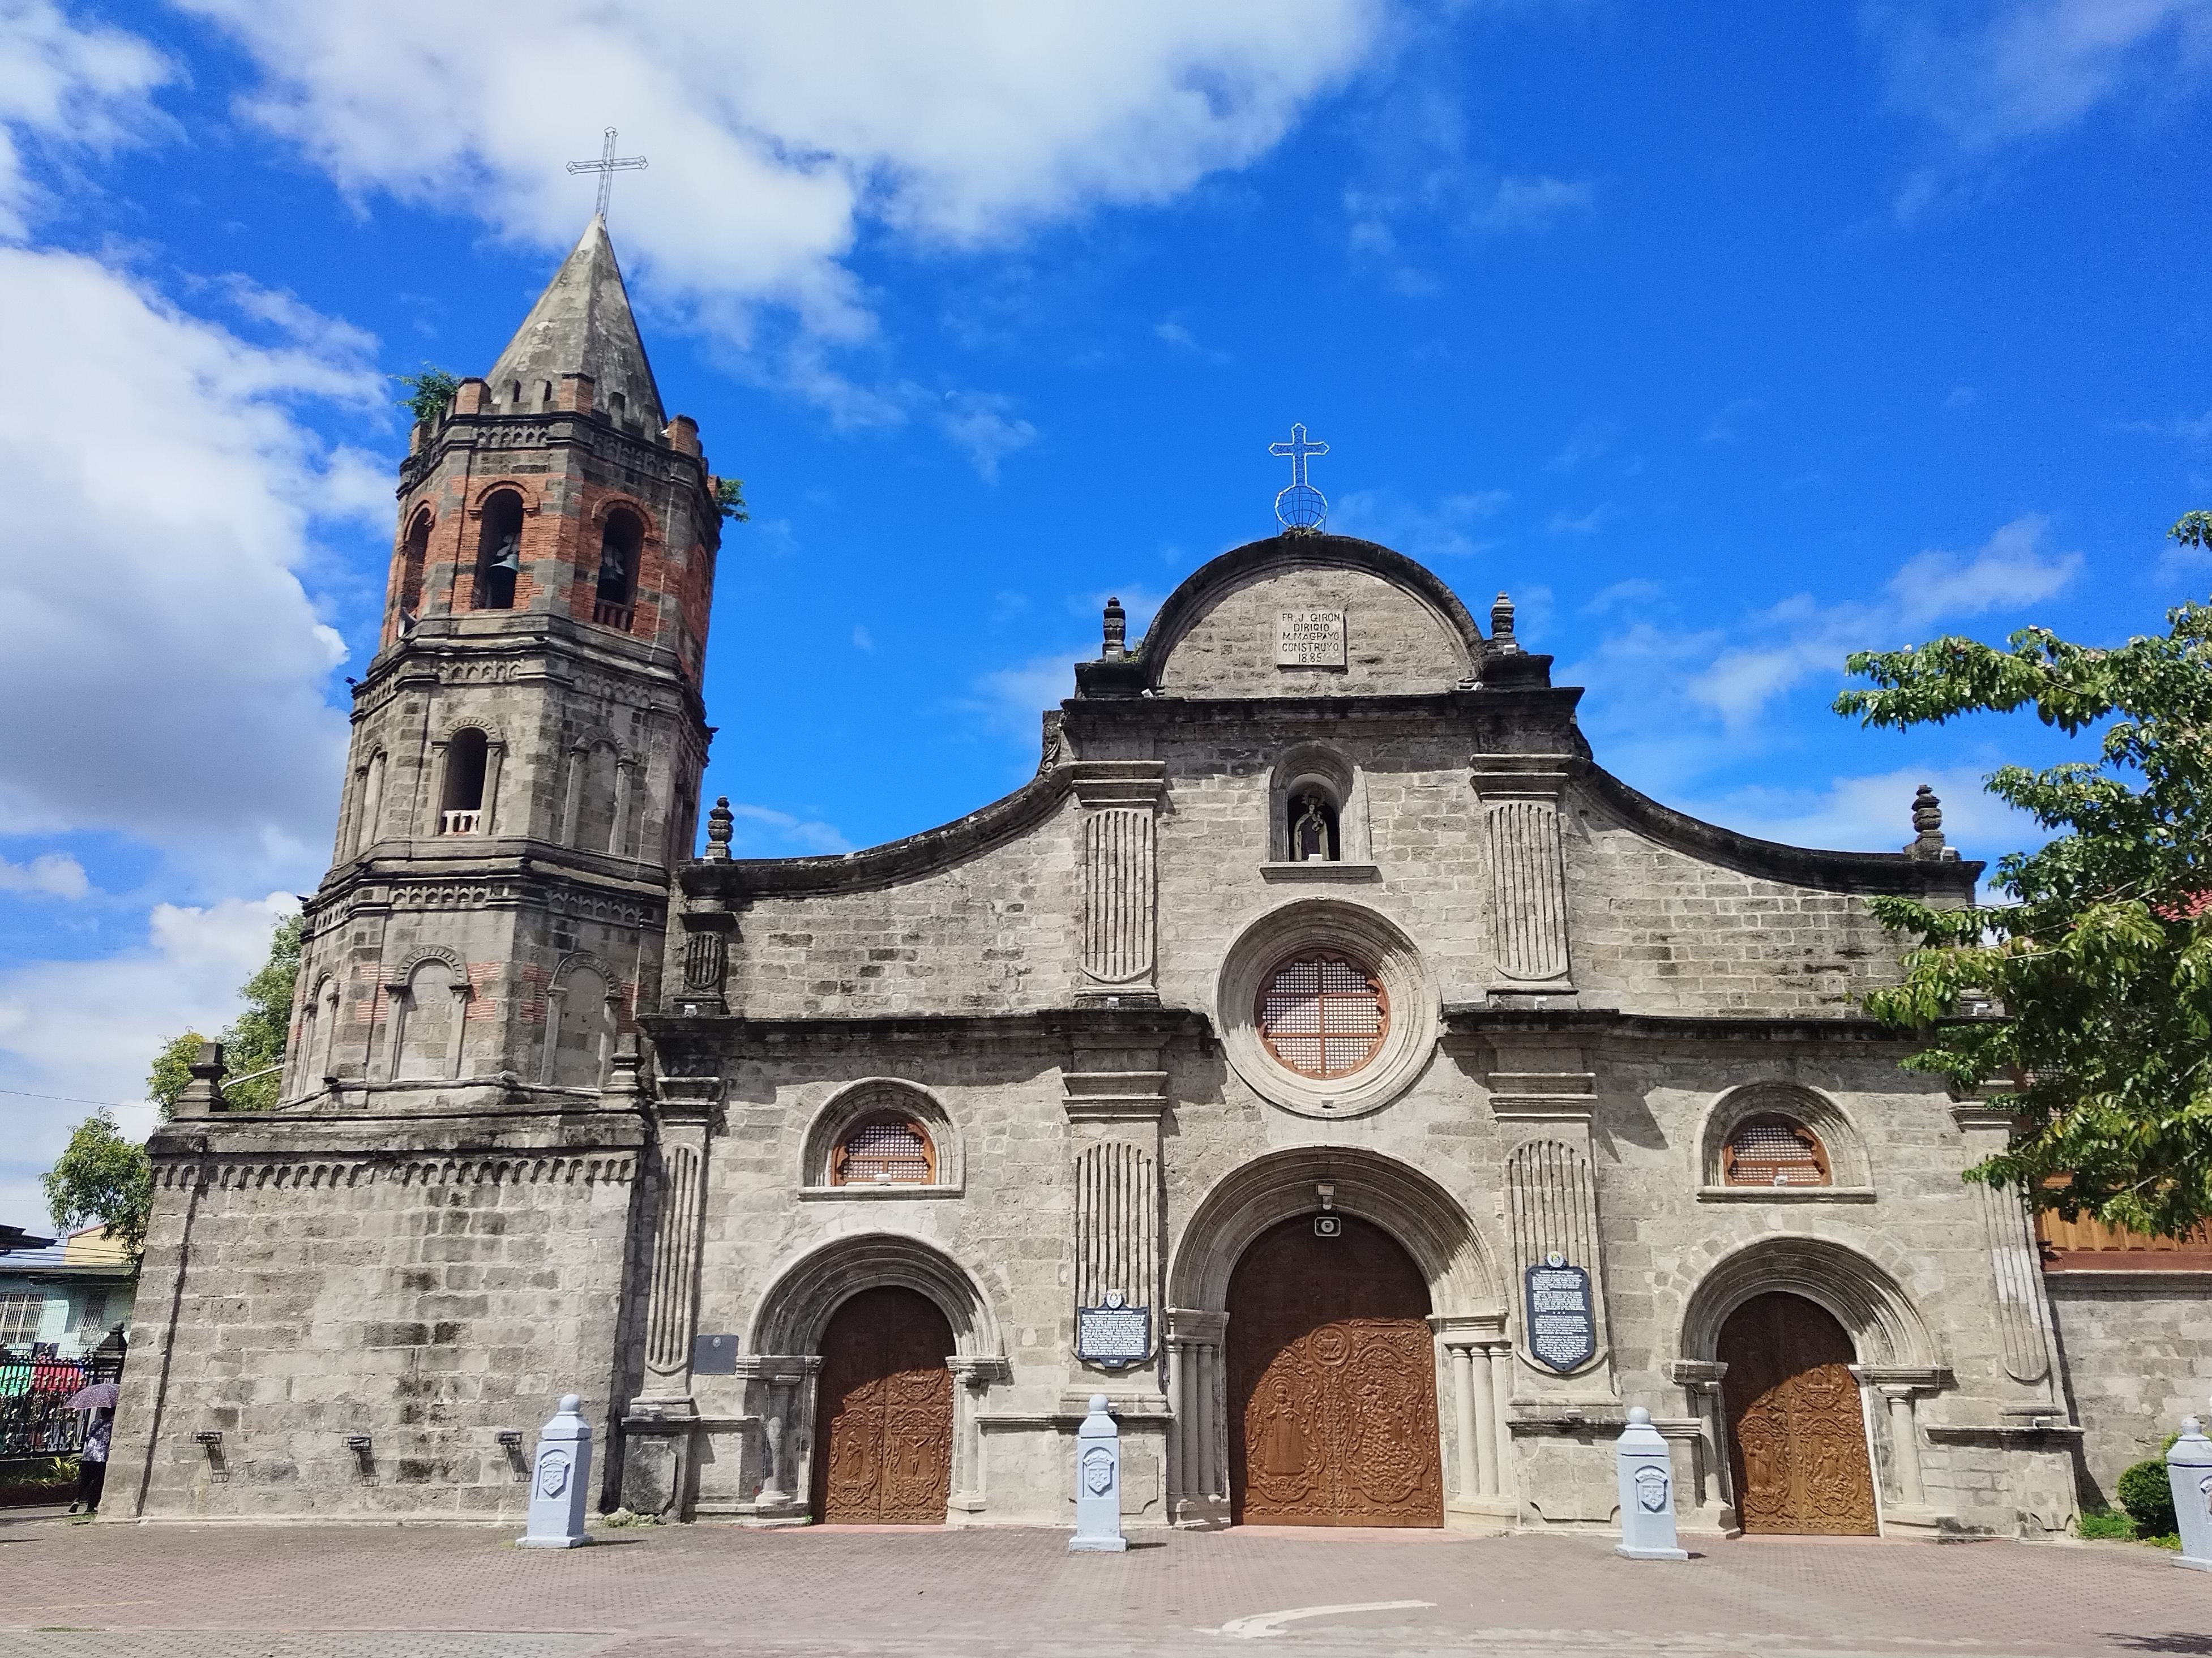barasoain_church_malolos_bulacan: (96, 110, 2101, 1560)
